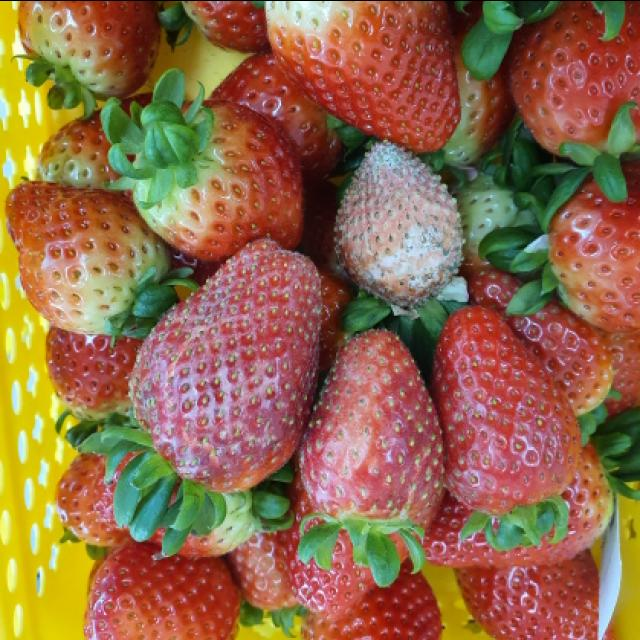Powdery Mildew Fruit: (127, 236, 325, 493), (299, 325, 445, 535), (333, 137, 466, 312)
